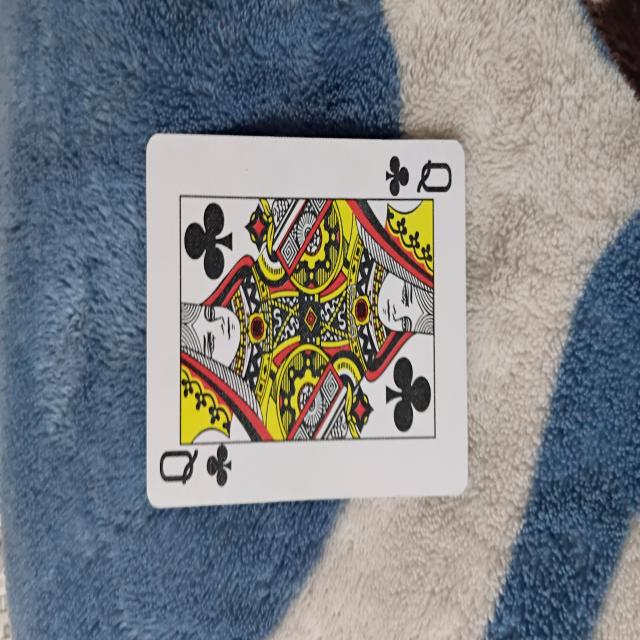QC: (141, 133, 468, 514)
